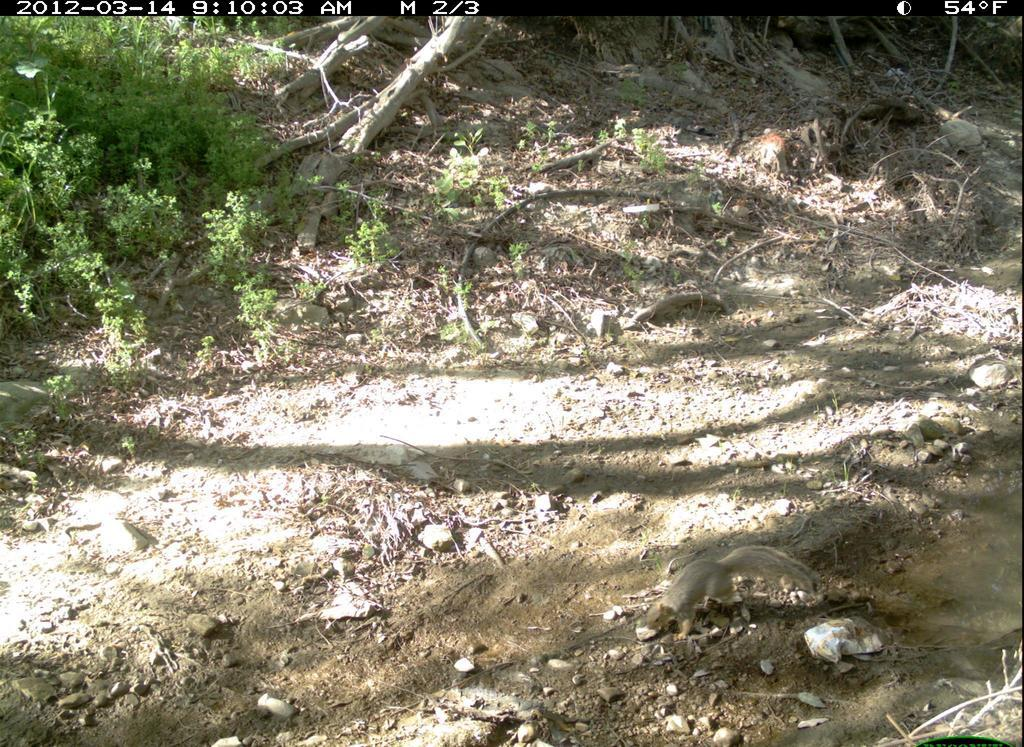squirrel: (645, 543, 823, 643)
